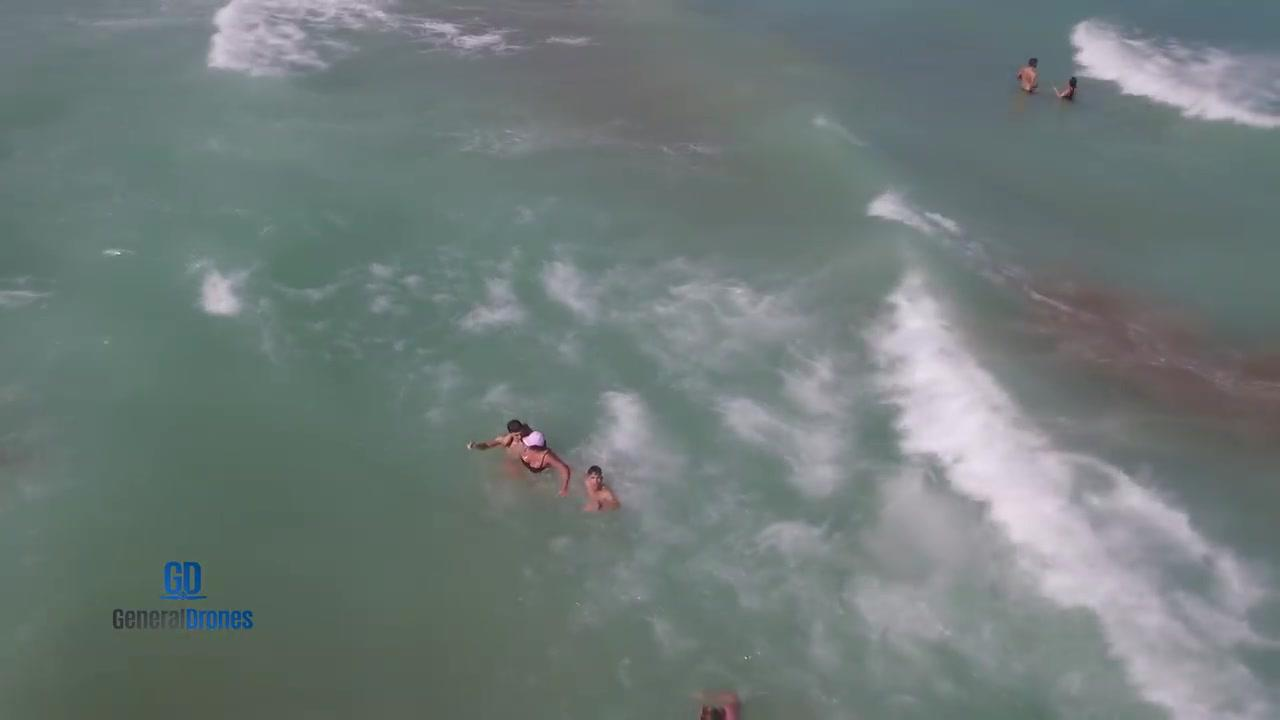swimmer: (521, 426, 574, 495), (681, 672, 750, 720), (571, 460, 621, 514), (473, 420, 528, 459)
